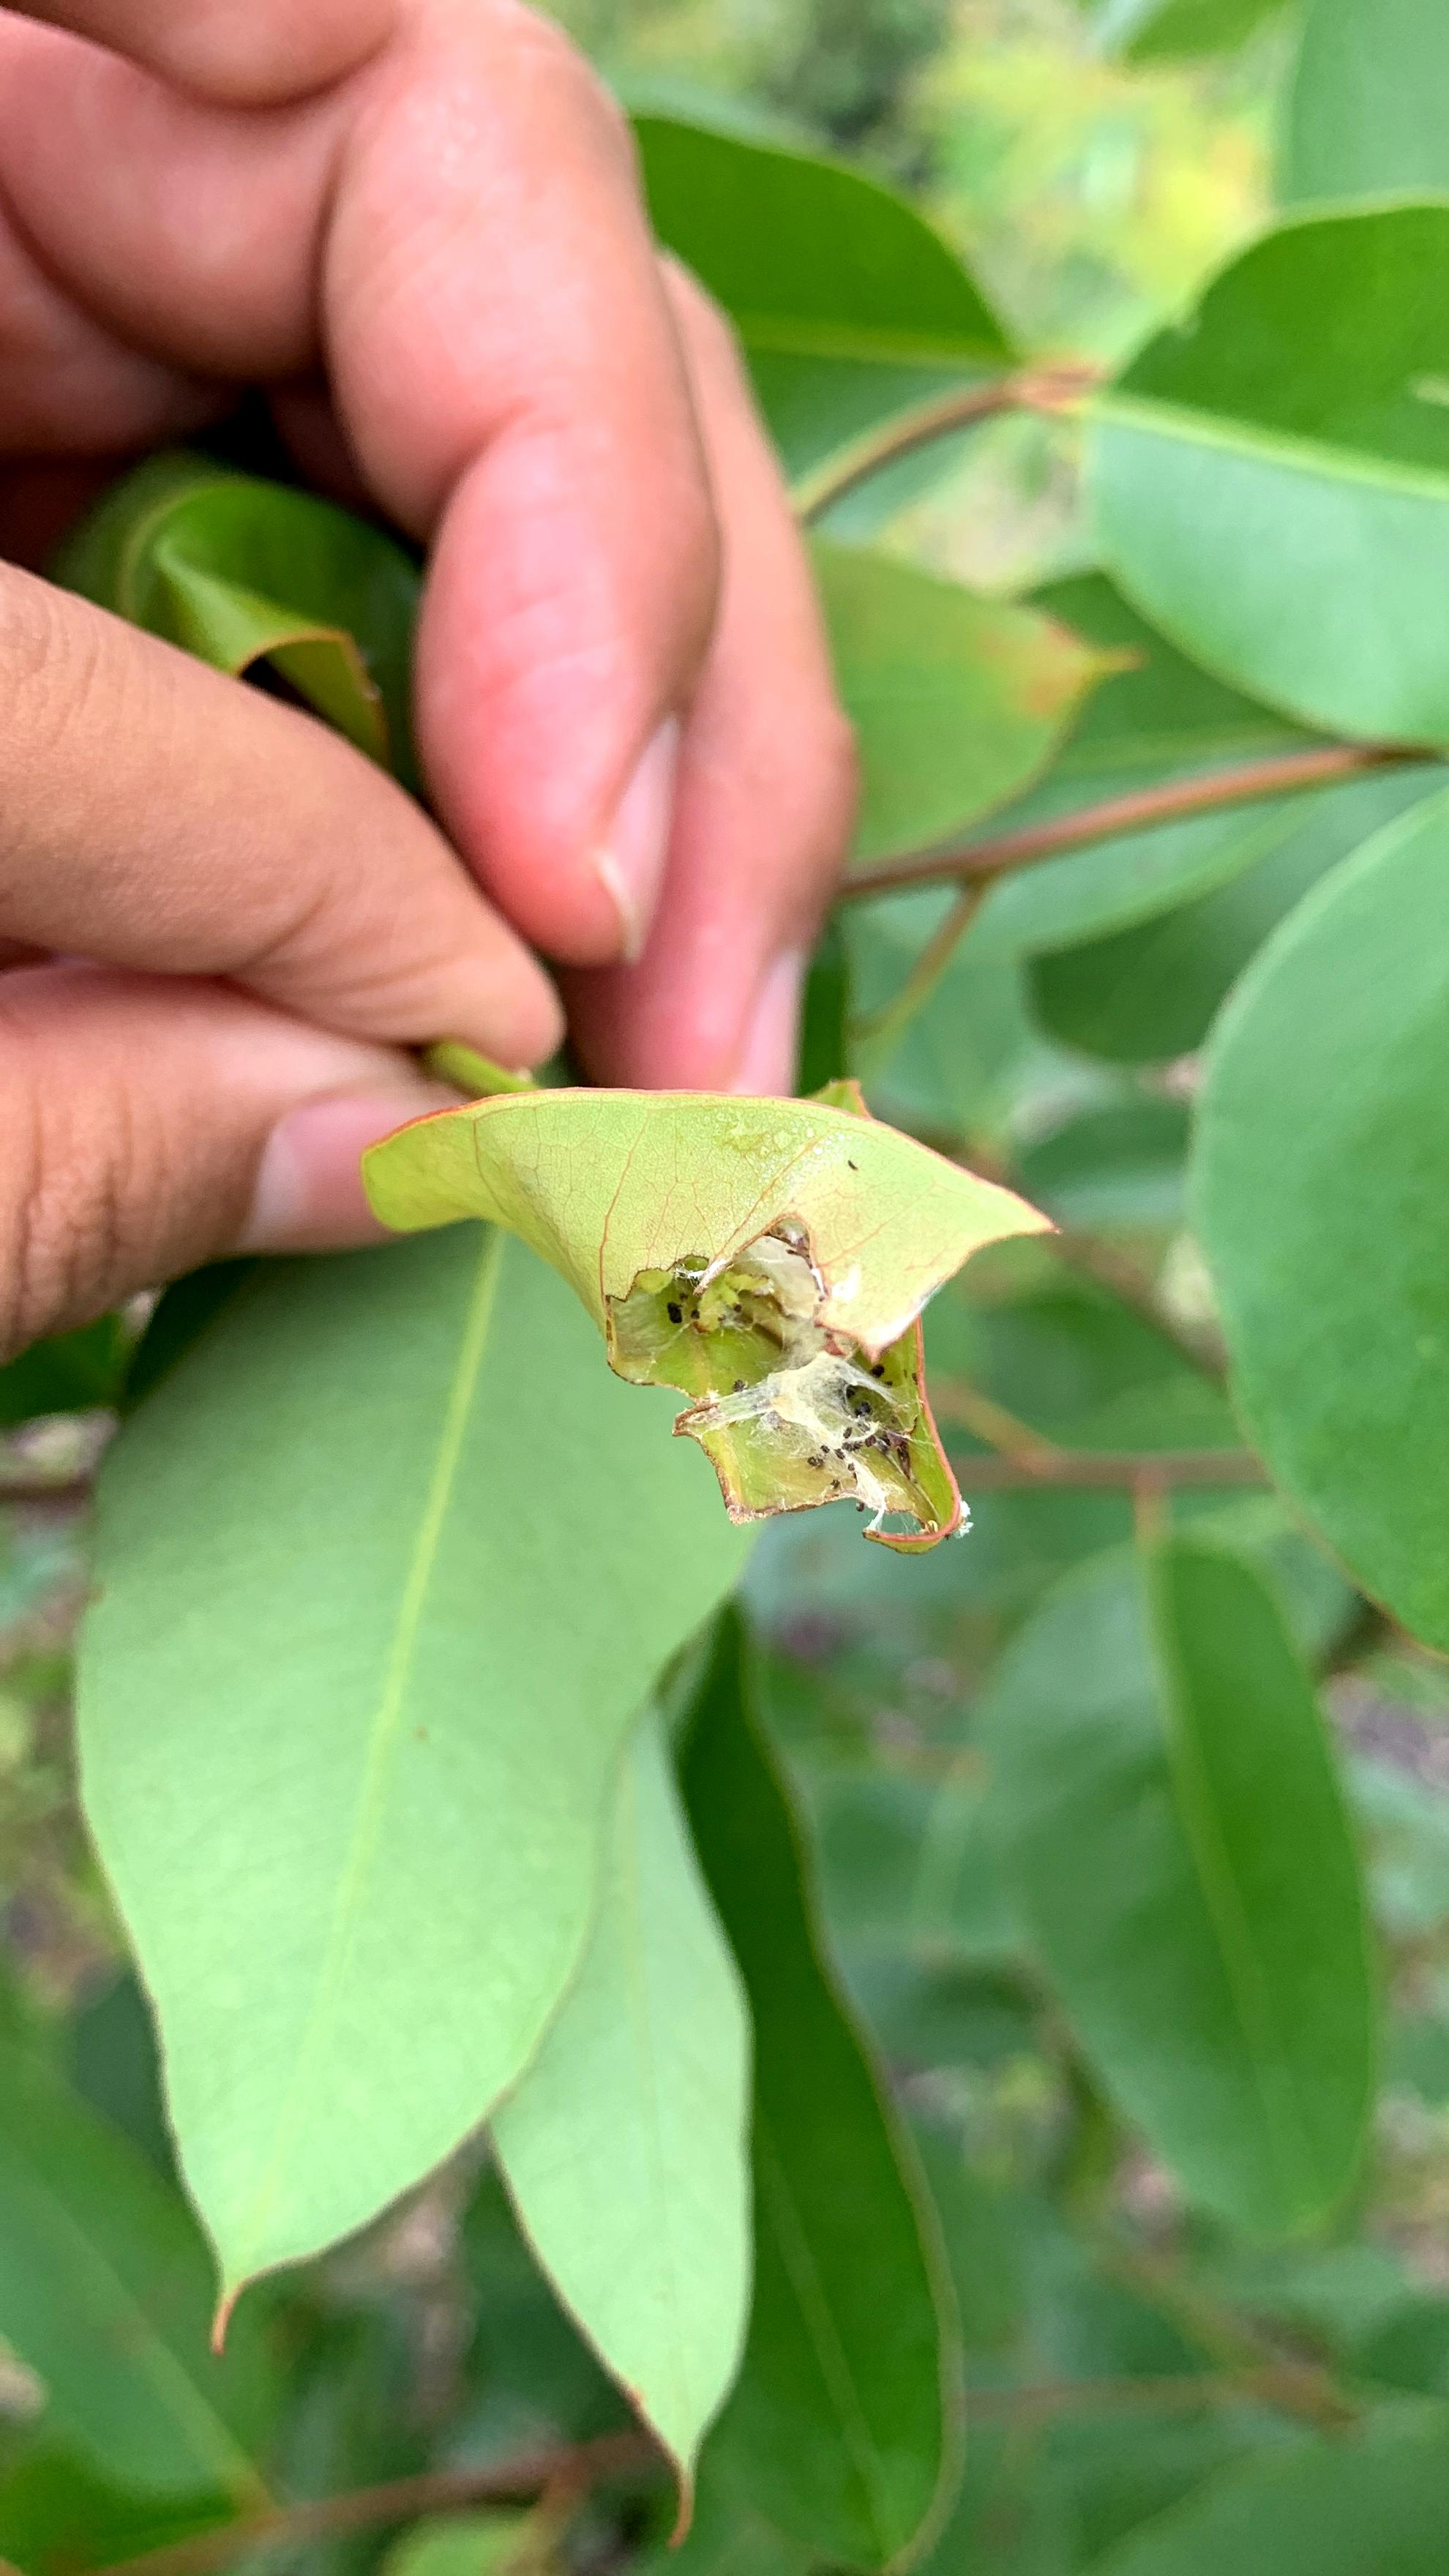Leaf Roller - Leaf: (407, 1098, 1001, 1565)
